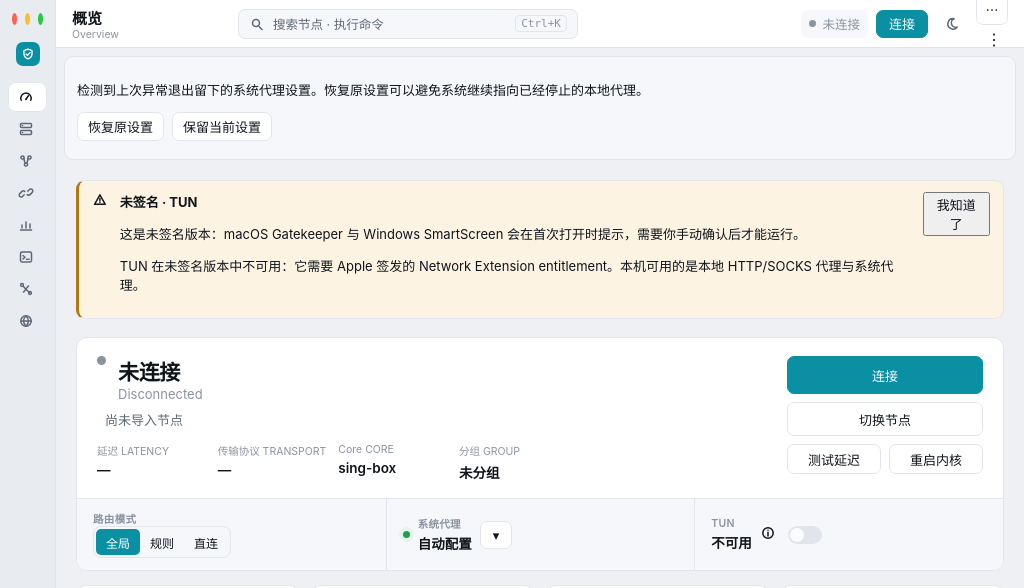
Test: App › can keep the current System Proxy settings
The width and height of the screenshot is (1024, 588).
Click the button "保留当前设置" at (222, 126), box [172,112,272,141]
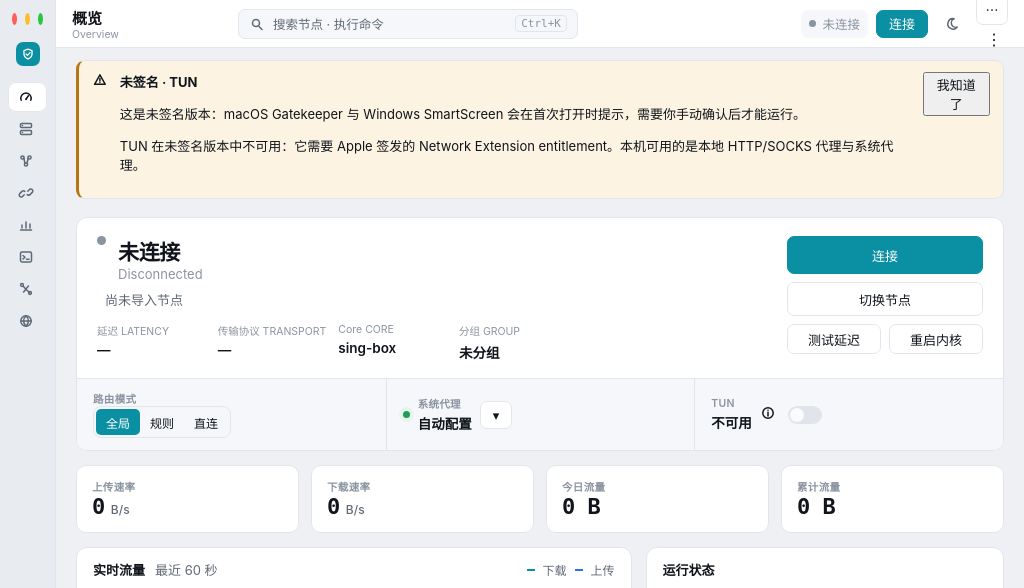
Expected: the element named "系统代理恢复" is gone
